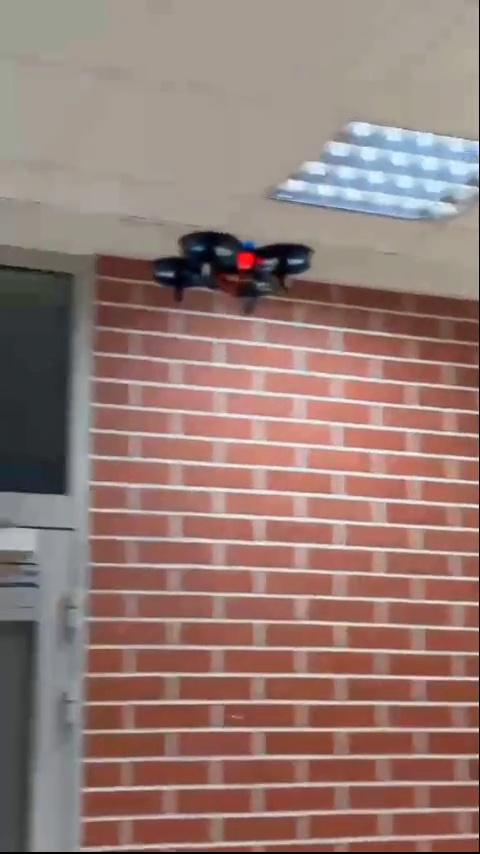drone: (151, 230, 314, 312)
